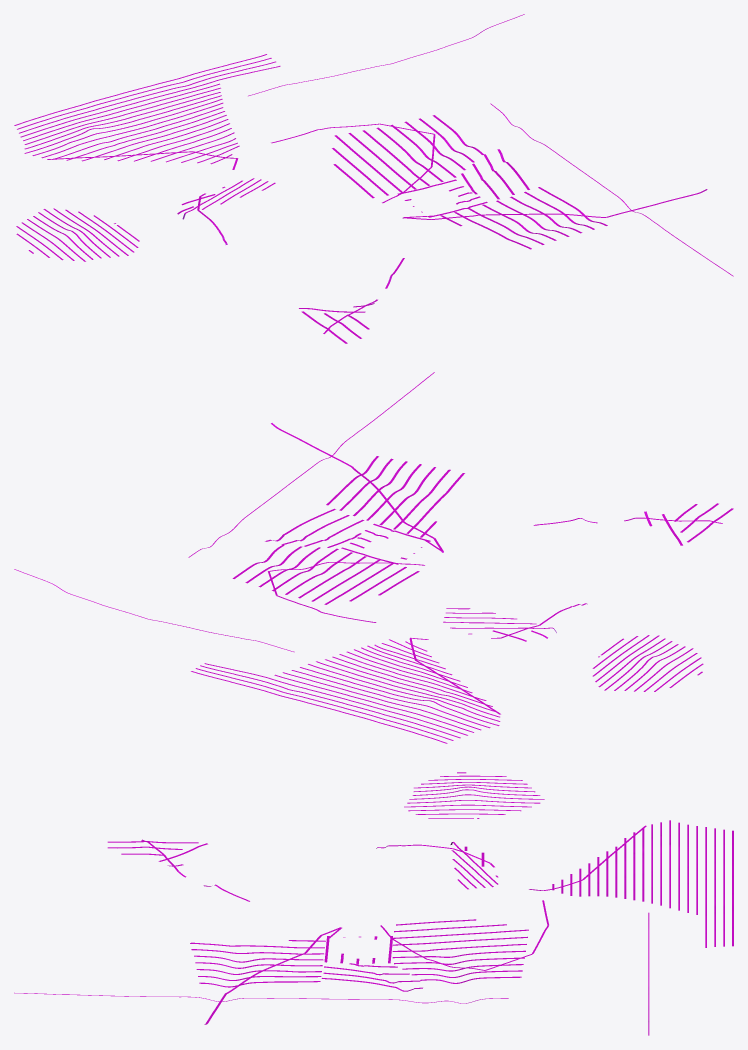
Rendered from roads.fbx.
The picture shows the model from 3 angles, top to bottom: view 1: azimuth 30°, elevation 25°; view 2: azimuth 150°, elevation 25°; view 3: azimuth 270°, elevation 25°; orthographic projection.
Parts seen in each view (by area): view 1: roads; view 2: roads; view 3: roads.
Part boxes in pixels (x1=…): roads: x1=14, y1=14, x2=733, y2=343; roads: x1=14, y1=372, x2=733, y2=743; roads: x1=14, y1=772, x2=733, y2=1035.
Bounding box in the file's own units: 2607 × 117 × 2725.
